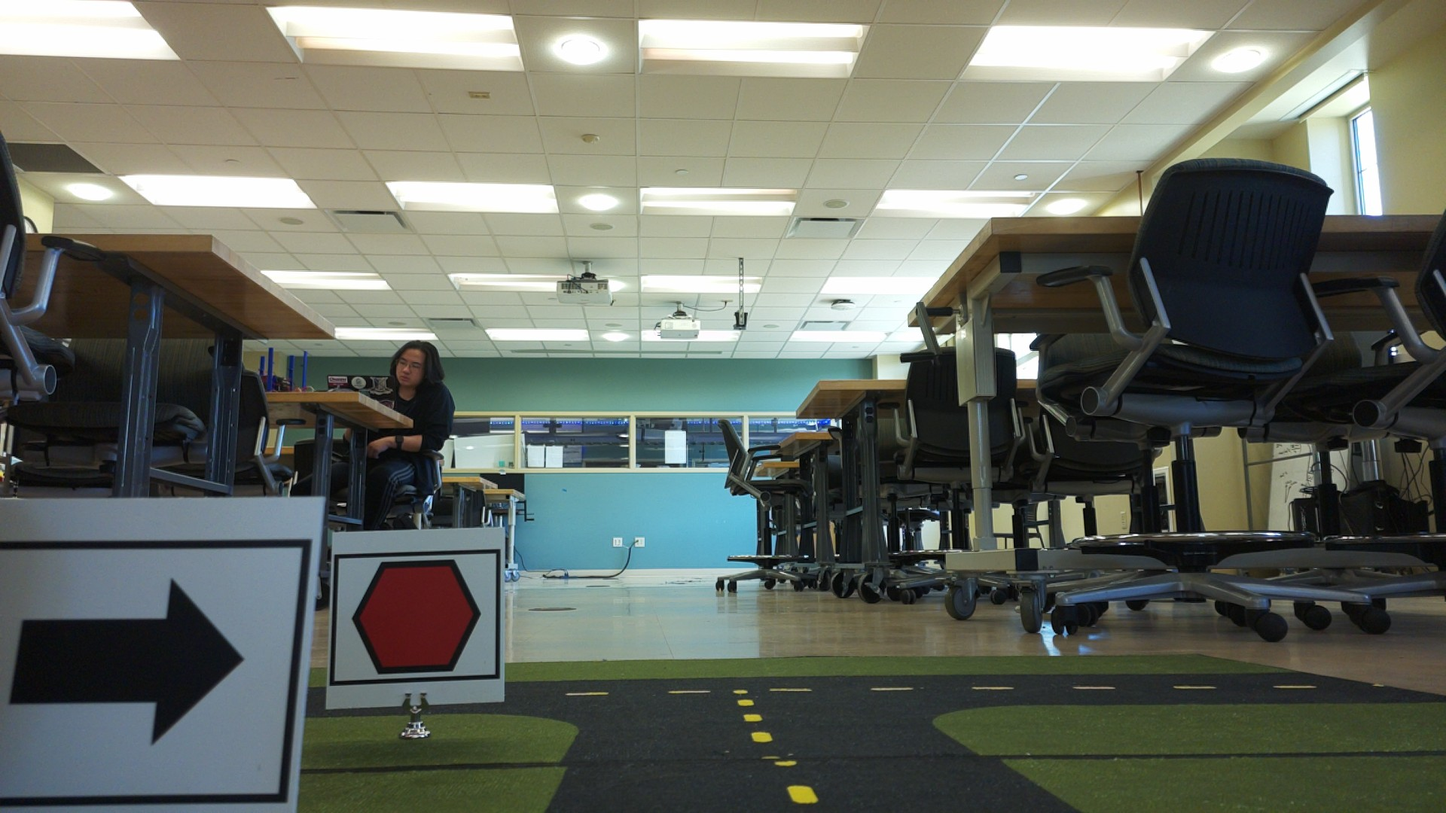stop: (337, 556, 501, 681)
turnright: (5, 545, 297, 799)
yellowline: (735, 697, 818, 805)
